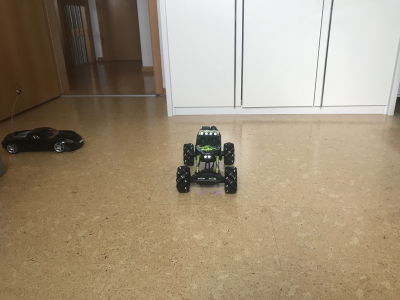remote control car: (173, 126, 240, 198)
